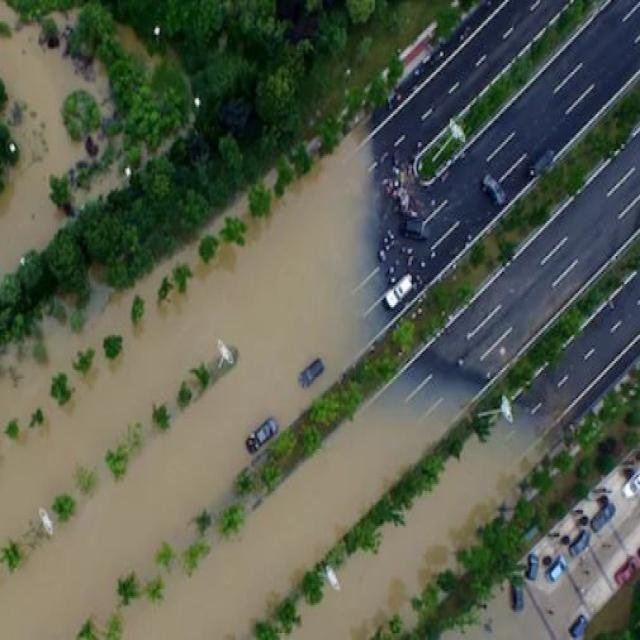flooded_areas: (0, 0, 370, 638)
